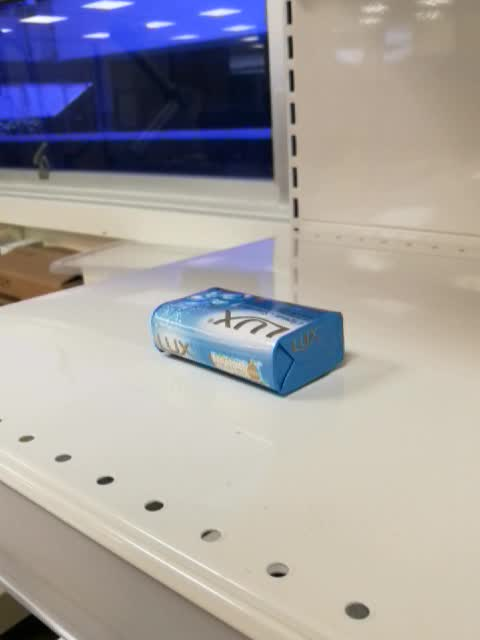soap: (147, 285, 346, 397)
